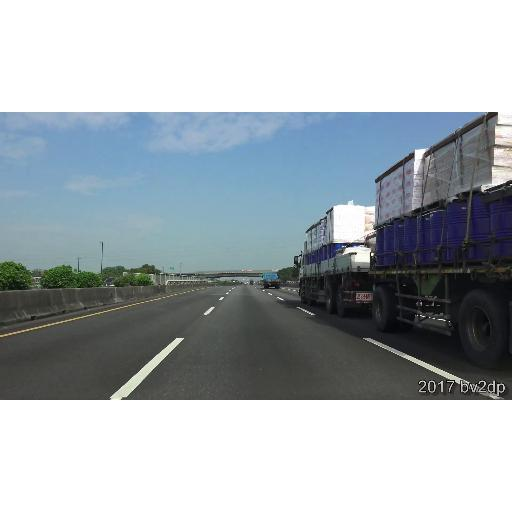Car: (371, 112, 512, 370), (298, 206, 385, 319), (264, 273, 281, 290), (250, 280, 254, 285)
